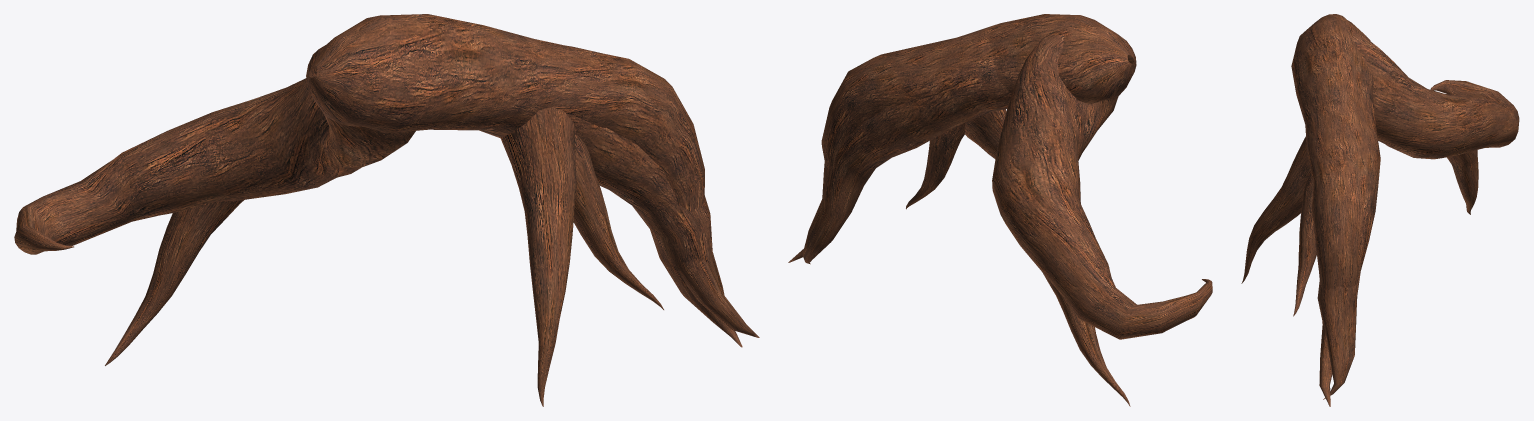
The picture shows the model from 3 angles, left to right: view 1: azimuth 30°, elevation 25°; view 2: azimuth 150°, elevation 25°; view 3: azimuth 270°, elevation 25°; orthographic projection. The views are drawn at different scales.
Visible parts, largest first — view 1: RootC, RootB, RootA; view 2: RootC, RootB, RootA; view 3: RootA, RootC, RootB.
Boxes of the visible parts, x1=… form: RootC: x1=14, y1=66, x2=415, y2=365; RootB: x1=306, y1=14, x2=742, y2=347; RootA: x1=432, y1=25, x2=759, y2=406; RootC: x1=992, y1=34, x2=1212, y2=406; RootB: x1=802, y1=14, x2=1136, y2=264; RootA: x1=788, y1=23, x2=1011, y2=262; RootA: x1=1241, y1=77, x2=1379, y2=406; RootC: x1=1352, y1=29, x2=1519, y2=214; RootB: x1=1291, y1=14, x2=1380, y2=399.
Size of the model in its own units: 64.73 by 39.65 by 37.35.
